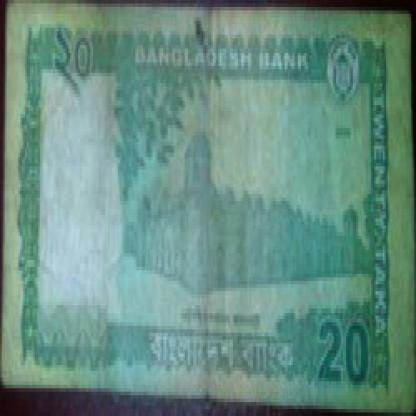Twenty: (315, 305, 376, 409), (47, 14, 103, 97)
